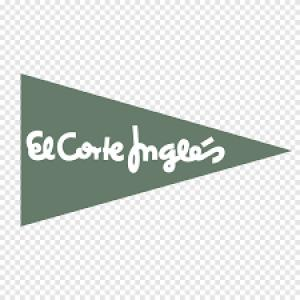corte_ingles: (24, 113, 224, 188)
